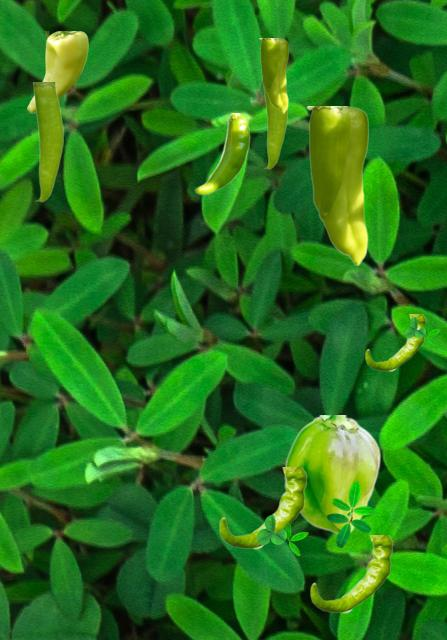green_chili: (284, 415, 380, 534), (306, 106, 367, 264), (219, 467, 306, 548), (310, 535, 392, 612), (27, 31, 87, 112), (194, 113, 249, 194), (32, 82, 62, 201), (365, 314, 425, 370), (259, 38, 287, 112), (262, 88, 286, 168)
